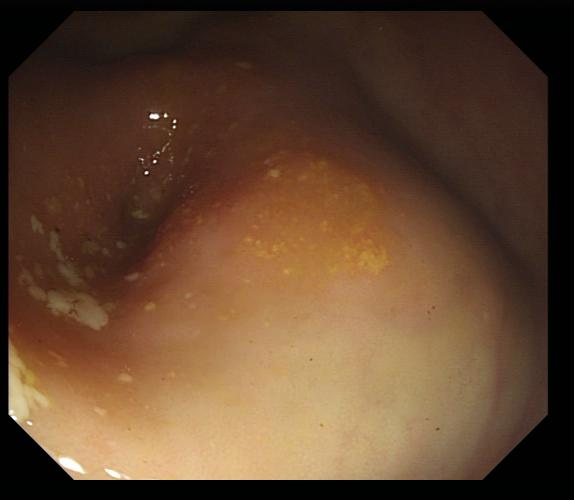polyp: (399, 134, 512, 283), (140, 196, 206, 273), (105, 47, 193, 104)
